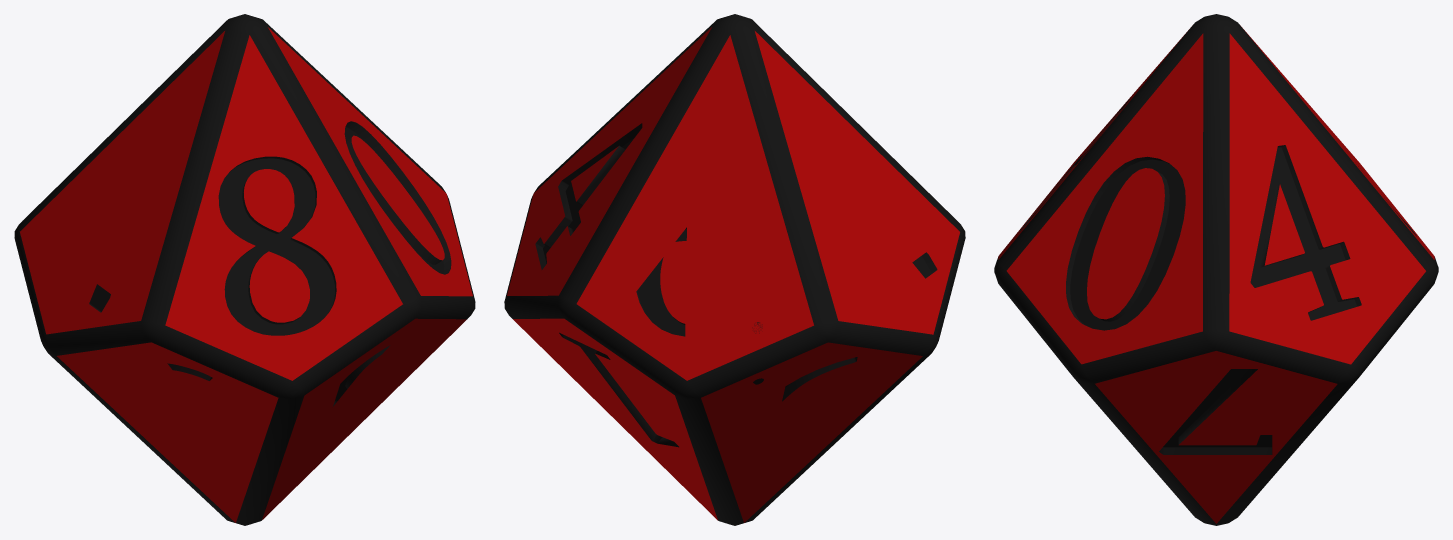
Rendered from Dice_D10.fbx.
3 renders of one model, left to right at view 1: azimuth 30°, elevation 25°; view 2: azimuth 150°, elevation 25°; view 3: azimuth 270°, elevation 25°, orthographic.
Parts seen in each view (by area): view 1: D10; view 2: D10; view 3: D10.
Part boxes in pixels (x1=…): D10: x1=14, y1=14, x2=475, y2=525; D10: x1=504, y1=14, x2=965, y2=525; D10: x1=994, y1=14, x2=1438, y2=525.
Size of the model in its own units: 308 by 375 by 295.
